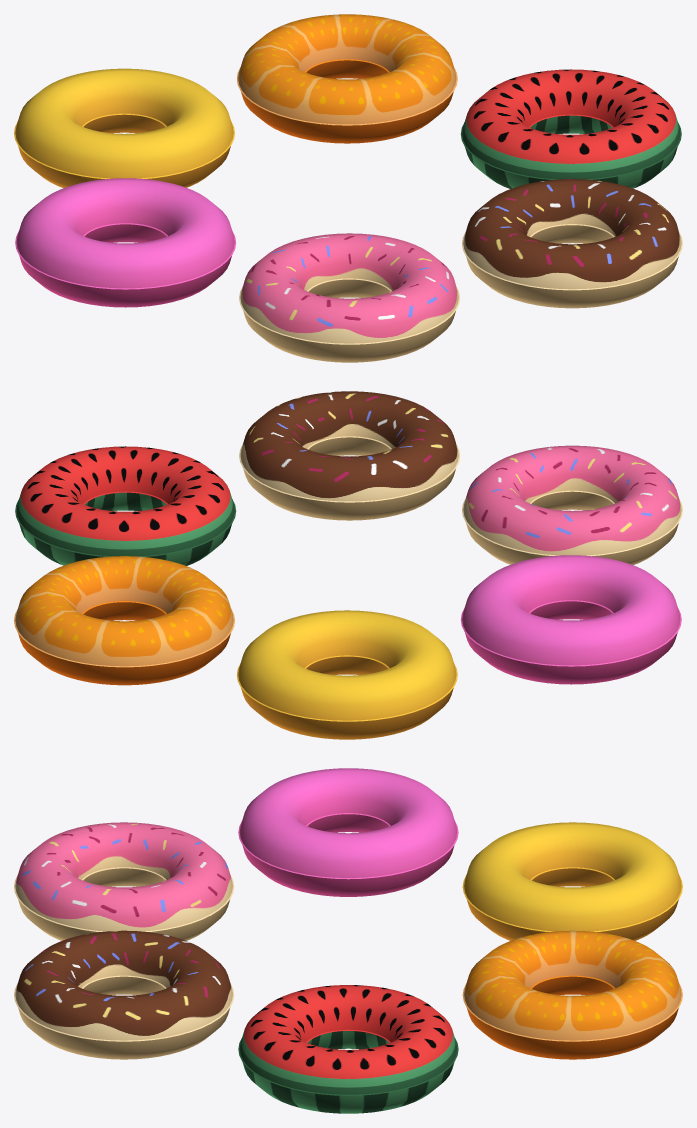
Rendered from inflatable_rings.glb.
3 renders of one model, top to bottom at view 1: azimuth 30°, elevation 25°; view 2: azimuth 150°, elevation 25°; view 3: azimuth 270°, elevation 25°, orthographic.
Parts seen in each view (by area): view 1: Inflatable_Ring_01, Inflatable_Ring_03, Inflatable_Ring_06, Inflatable_Ring_05, Inflatable_Ring_04, Inflatable_Ring_02; view 2: Inflatable_Ring_01, Inflatable_Ring_02, Inflatable_Ring_05, Inflatable_Ring_03, Inflatable_Ring_04, Inflatable_Ring_06; view 3: Inflatable_Ring_05, Inflatable_Ring_03, Inflatable_Ring_01, Inflatable_Ring_04, Inflatable_Ring_02, Inflatable_Ring_06.
Part boxes in pixels (box(x1,y1,x2,y2)): Inflatable_Ring_01: box(15, 178, 236, 307); Inflatable_Ring_03: box(237, 14, 457, 143); Inflatable_Ring_06: box(239, 233, 459, 362); Inflatable_Ring_05: box(462, 179, 682, 308); Inflatable_Ring_04: box(460, 69, 681, 188); Inflatable_Ring_02: box(14, 68, 234, 188); Inflatable_Ring_01: box(460, 555, 681, 684); Inflatable_Ring_02: box(237, 610, 457, 739); Inflatable_Ring_05: box(239, 391, 459, 520); Inflatable_Ring_03: box(14, 556, 234, 685); Inflatable_Ring_04: box(15, 446, 236, 565); Inflatable_Ring_06: box(462, 445, 682, 565); Inflatable_Ring_05: box(14, 930, 234, 1059); Inflatable_Ring_03: box(462, 930, 682, 1059); Inflatable_Ring_01: box(238, 768, 458, 896); Inflatable_Ring_04: box(238, 985, 458, 1113); Inflatable_Ring_02: box(462, 822, 682, 940); Inflatable_Ring_06: box(14, 822, 234, 940).
Bounding box in the file's own units: 5.72 × 0.5 × 5.22.
3 materials, 3 textured.
